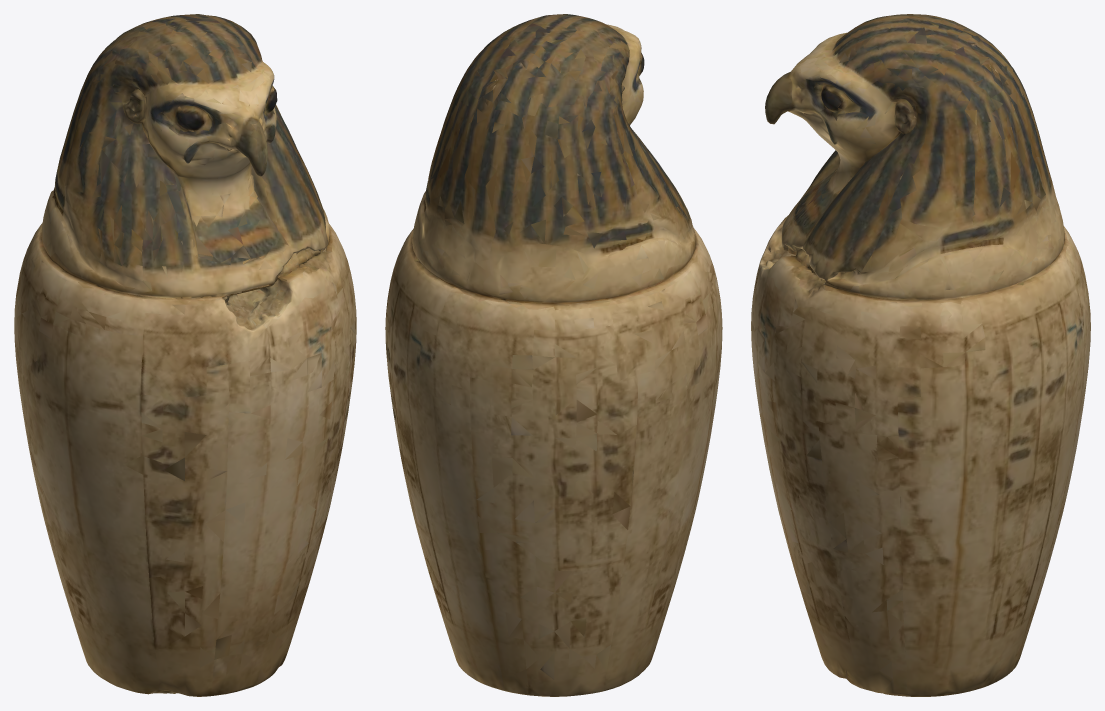
Rendered from canopic_qebehsenuef.glb.
The picture shows the model from 3 angles, left to right: view 1: azimuth 30°, elevation 25°; view 2: azimuth 150°, elevation 25°; view 3: azimuth 270°, elevation 25°; orthographic projection.
Visible parts, largest first — view 1: prop; view 2: prop; view 3: prop.
Boxes of the visible parts, x1,y1,x2,y2 form: prop: (14,14,356,696); prop: (385,14,722,696); prop: (751,14,1090,696).
Bounding box in the file's own units: 0.1953 × 0.4 × 0.1953.
1 material, 1 textured.
